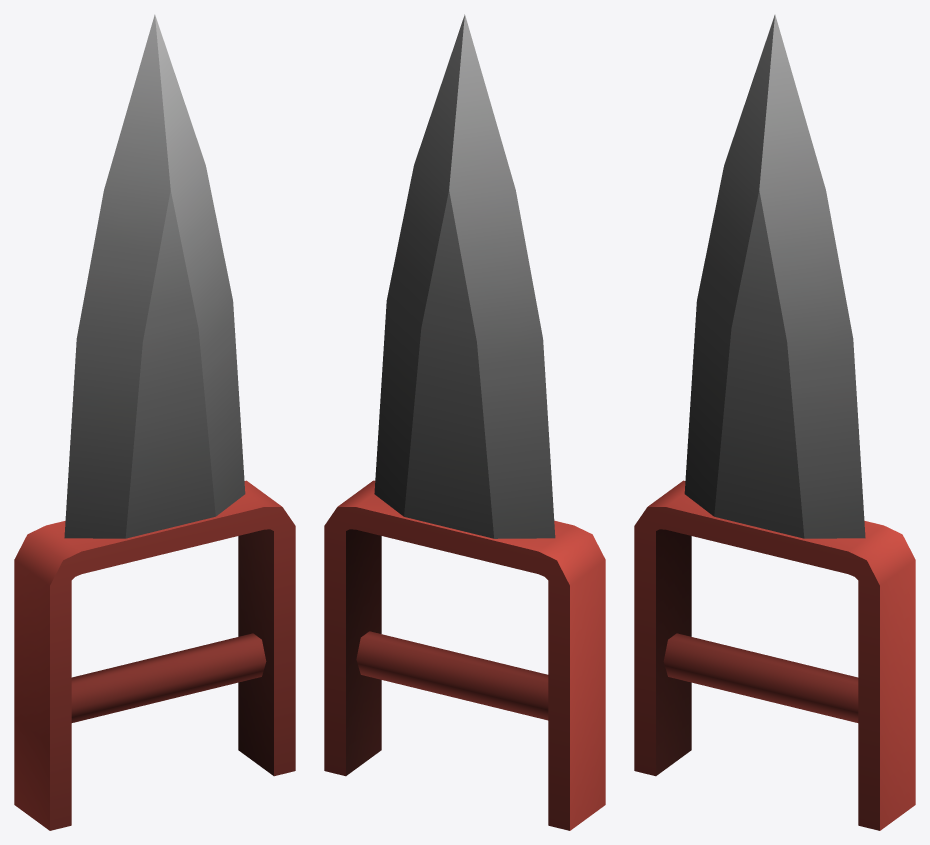
File: Claws1h_02.fbx
3 views of the same model, side by side, from view 1: azimuth 30°, elevation 25°; view 2: azimuth 150°, elevation 25°; view 3: azimuth 330°, elevation 25° (orthographic).
Parts seen in each view (by area): view 1: Claws1h_02; view 2: Claws1h_02; view 3: Claws1h_02.
Part boxes in pixels (x1=…): Claws1h_02: x1=14, y1=14, x2=295, y2=830; Claws1h_02: x1=324, y1=14, x2=605, y2=830; Claws1h_02: x1=634, y1=14, x2=915, y2=830.
Bounding box in the file's own units: 20.49 × 61.66 × 5.14.
